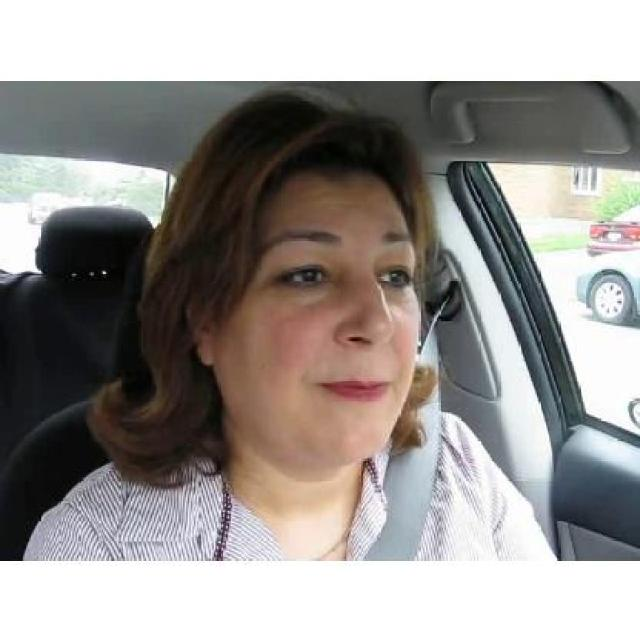attentif: (187, 91, 419, 463)
